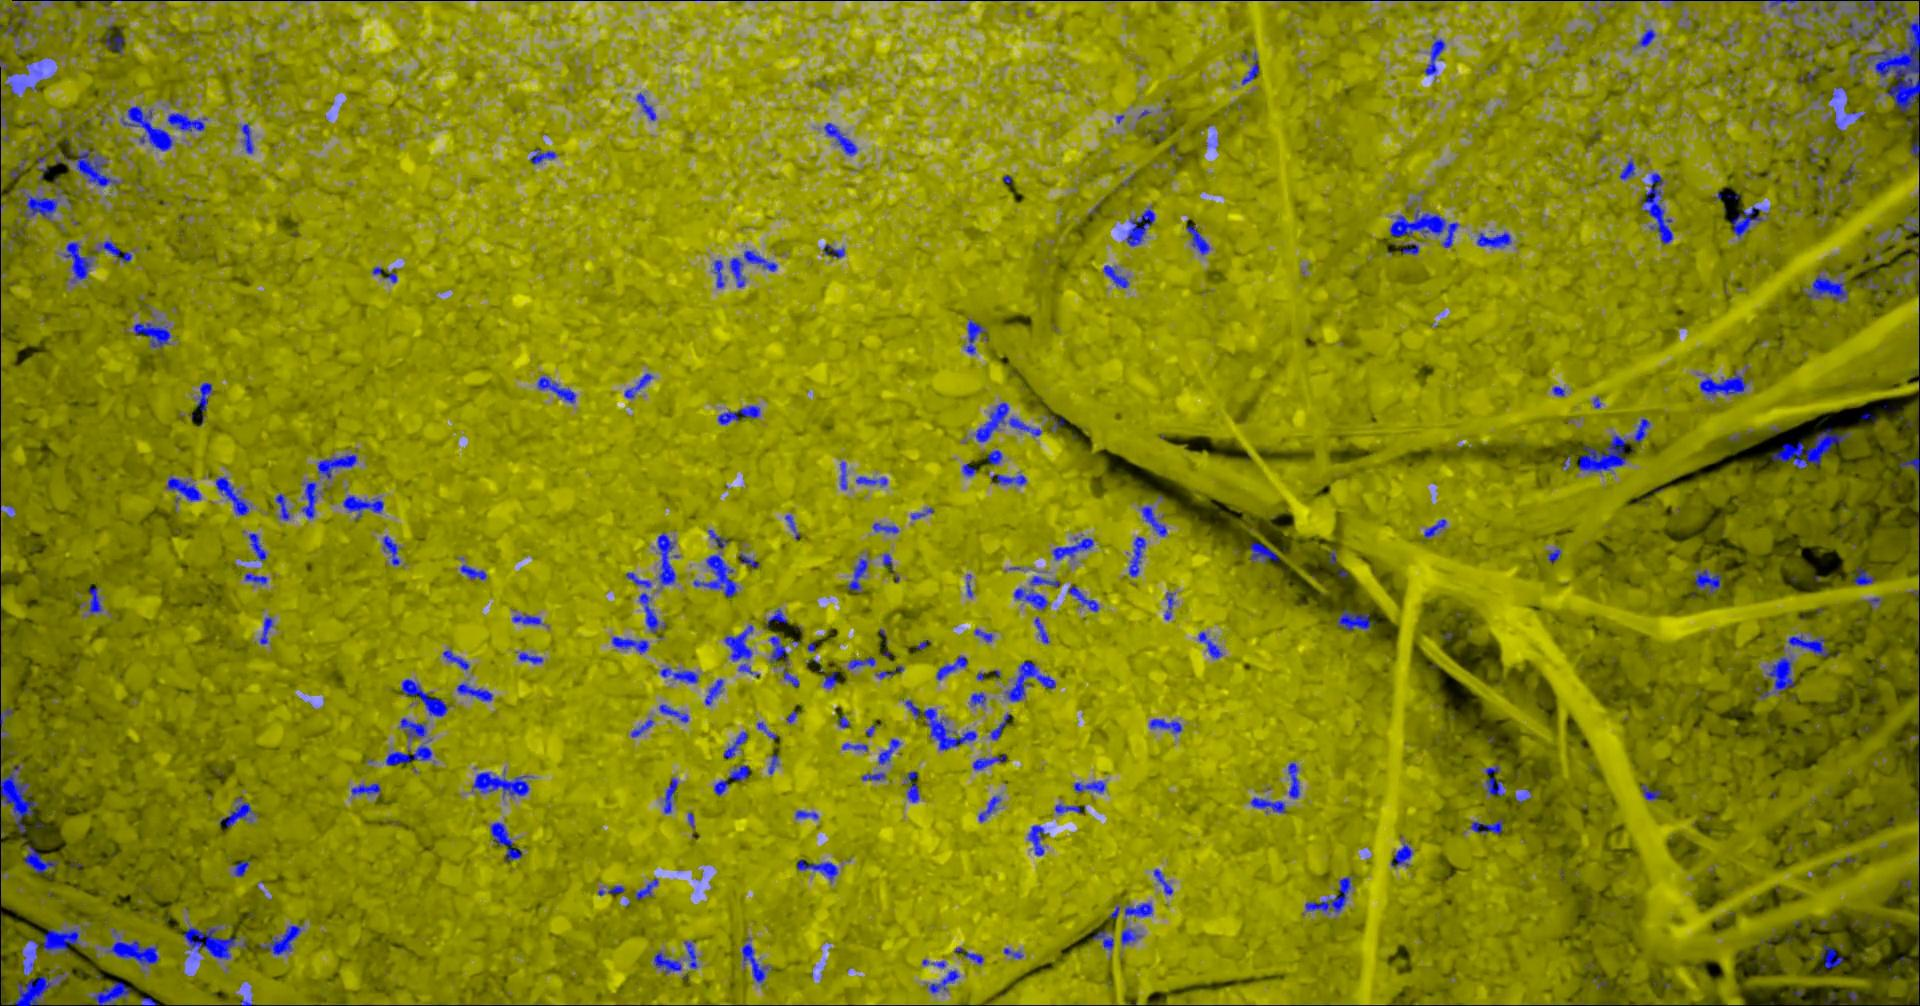ant: (902, 699, 977, 749), (55, 144, 118, 188), (974, 401, 1041, 441), (1389, 210, 1458, 246), (1639, 171, 1672, 244), (119, 105, 171, 150), (385, 716, 430, 765), (1004, 661, 1055, 701), (723, 624, 759, 677), (105, 929, 157, 965), (693, 554, 737, 597), (1578, 434, 1627, 473), (182, 926, 236, 959), (400, 678, 447, 716), (729, 250, 776, 287), (1304, 876, 1351, 913), (23, 929, 79, 959), (1757, 655, 1796, 697), (1013, 575, 1059, 608), (471, 771, 530, 796), (20, 189, 69, 218), (258, 925, 303, 955), (63, 241, 97, 283), (489, 821, 522, 861), (8, 976, 53, 1005), (1699, 370, 1746, 398), (1731, 202, 1768, 238), (1124, 205, 1154, 246), (215, 476, 248, 514), (742, 937, 768, 984), (637, 592, 665, 633), (823, 122, 857, 155), (1803, 274, 1848, 300), (1051, 533, 1093, 560), (536, 375, 575, 403), (218, 796, 255, 826), (657, 532, 676, 586), (342, 495, 383, 520), (317, 453, 357, 479), (796, 857, 837, 882), (1787, 634, 1829, 657), (23, 845, 57, 873), (90, 981, 130, 1005), (1336, 608, 1375, 631), (133, 323, 170, 347), (1898, 456, 1919, 499), (166, 475, 201, 500), (1067, 586, 1098, 611), (717, 405, 759, 424), (935, 655, 968, 680), (926, 969, 959, 993), (1140, 506, 1166, 536), (965, 319, 987, 354), (1185, 224, 1209, 255), (168, 112, 207, 131), (1423, 37, 1444, 74), (846, 558, 867, 592), (98, 240, 131, 262), (1694, 568, 1721, 594), (301, 481, 320, 518), (1128, 536, 1145, 575), (456, 682, 491, 701), (623, 373, 651, 398), (723, 730, 747, 758), (0, 706, 11, 765), (196, 382, 212, 422), (1197, 631, 1222, 658), (977, 795, 1001, 822), (653, 950, 681, 973), (1484, 763, 1503, 796), (1818, 942, 1843, 968), (611, 636, 648, 653), (659, 667, 698, 682), (768, 635, 789, 664), (1241, 51, 1258, 84), (1250, 796, 1285, 813), (658, 702, 688, 721), (877, 738, 900, 763), (104, 27, 124, 55), (635, 91, 655, 119), (1250, 541, 1277, 561), (1469, 817, 1503, 833), (1103, 264, 1128, 287), (1390, 842, 1412, 868), (442, 649, 469, 669), (990, 713, 1010, 741), (971, 754, 1006, 770), (634, 878, 658, 899), (954, 946, 983, 964), (1153, 868, 1172, 894), (382, 535, 399, 565), (1148, 718, 1181, 733), (1476, 232, 1511, 246), (248, 533, 265, 561), (663, 777, 677, 813), (703, 678, 723, 704), (904, 771, 919, 801), (1027, 824, 1043, 855), (1902, 224, 1919, 251), (990, 473, 1026, 485), (1032, 616, 1049, 643), (1091, 929, 1112, 949), (1423, 518, 1446, 537), (764, 608, 787, 627), (1853, 567, 1874, 586), (350, 782, 380, 796), (530, 149, 556, 164), (274, 493, 290, 520), (460, 564, 486, 579), (630, 719, 653, 737), (1288, 762, 1299, 798), (1073, 780, 1105, 793), (1633, 418, 1650, 442), (1124, 902, 1152, 916), (683, 940, 697, 968), (707, 528, 728, 547), (625, 572, 650, 587), (88, 587, 102, 614), (240, 123, 253, 152), (783, 514, 799, 539), (756, 721, 777, 738), (728, 763, 749, 780), (1120, 927, 1142, 944), (847, 655, 875, 668), (875, 666, 903, 678), (1054, 801, 1084, 813), (259, 617, 272, 644), (9, 159, 25, 179), (510, 614, 543, 624), (1641, 782, 1661, 799), (1619, 158, 1634, 179), (13, 0, 25, 25), (712, 259, 724, 287), (1855, 278, 1883, 290), (1163, 591, 1175, 619), (1637, 28, 1655, 46), (1841, 163, 1855, 184), (738, 553, 759, 567), (855, 476, 888, 485), (822, 244, 844, 257), (910, 507, 933, 520), (872, 522, 898, 533), (517, 652, 542, 663), (782, 669, 799, 686), (232, 860, 249, 876), (597, 885, 623, 895), (244, 573, 267, 584), (987, 448, 1002, 465), (712, 779, 728, 795), (974, 627, 992, 641), (823, 671, 837, 688), (841, 742, 867, 751), (1049, 415, 1064, 431), (767, 754, 778, 774), (839, 461, 847, 489), (961, 462, 977, 476), (1003, 948, 1023, 958), (1401, 243, 1418, 254), (1545, 547, 1559, 561), (970, 692, 985, 705), (861, 772, 885, 780), (1909, 141, 1919, 159), (1768, 0, 1796, 6), (22, 962, 34, 976), (795, 810, 818, 818), (883, 553, 891, 570), (138, 996, 156, 1005), (0, 111, 10, 126), (1917, 521, 1919, 573)
